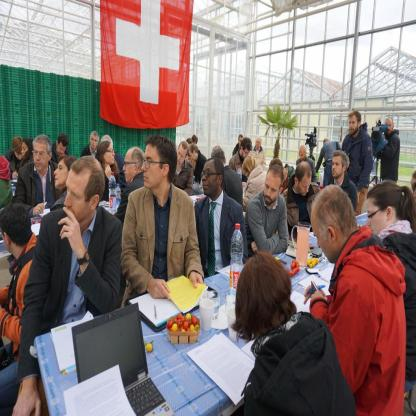board: (72, 304, 174, 416), (230, 221, 243, 295), (200, 297, 214, 331), (228, 308, 239, 342), (109, 170, 117, 212), (117, 183, 121, 207), (237, 165, 242, 182)
